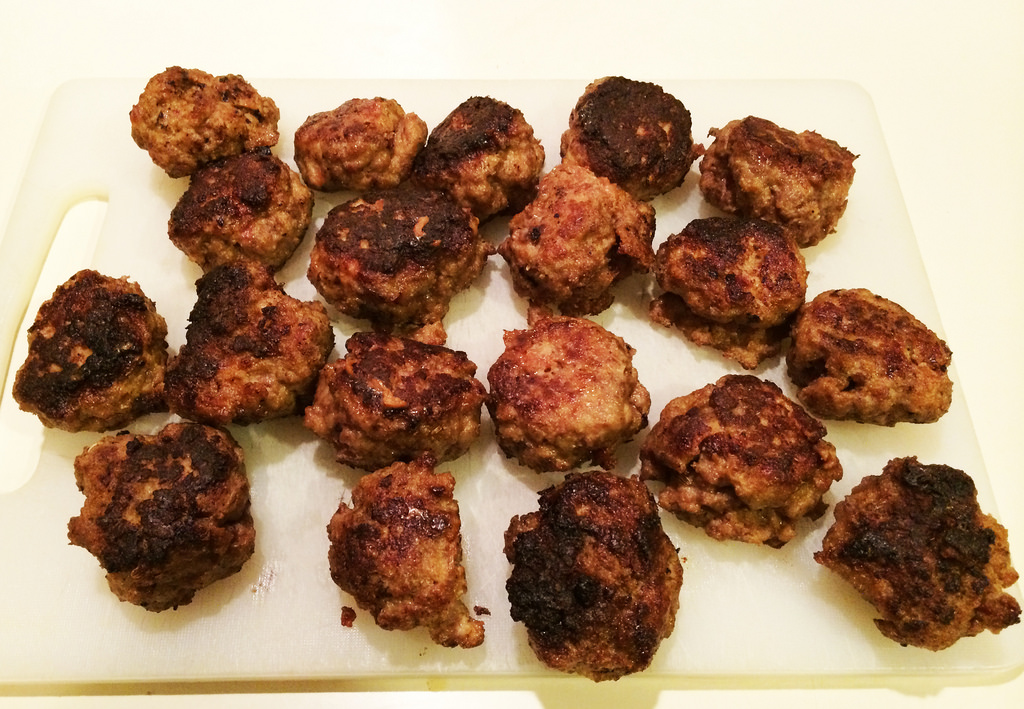meatballs: (16, 40, 1023, 659), (74, 423, 256, 634), (501, 476, 670, 659), (318, 464, 488, 641), (131, 61, 281, 164)
